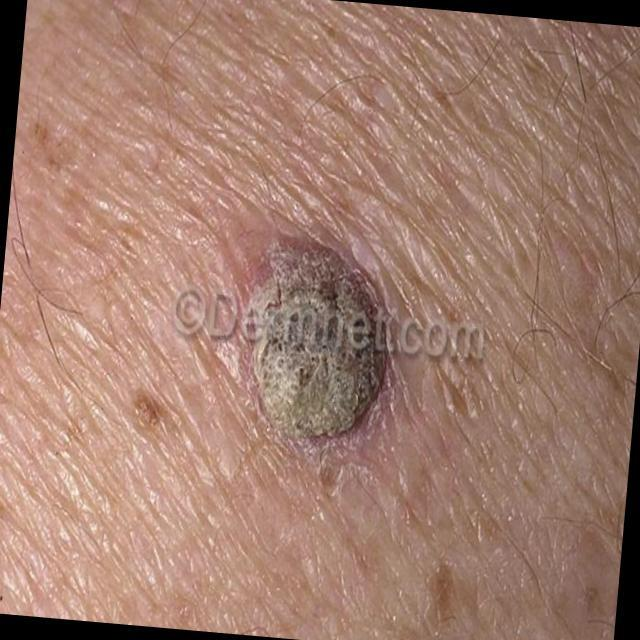Eczema: (225, 228, 386, 428)
